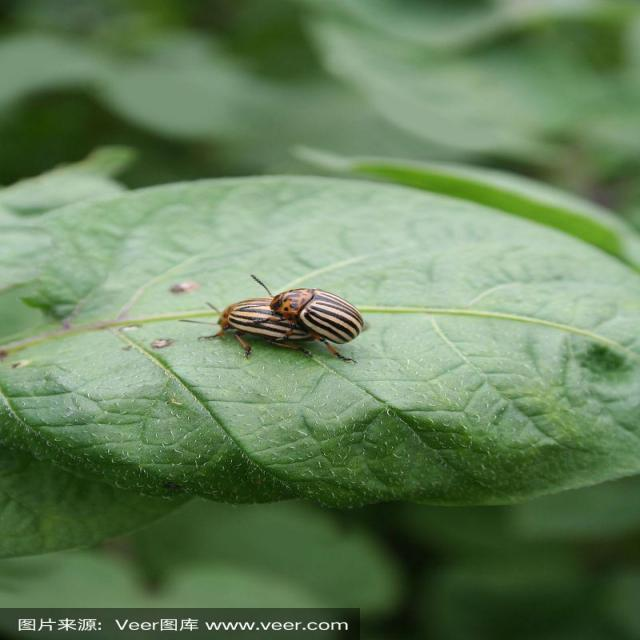ShuCaiHuaBanChong-Grown-: (212, 295, 320, 355), (268, 279, 370, 342)
